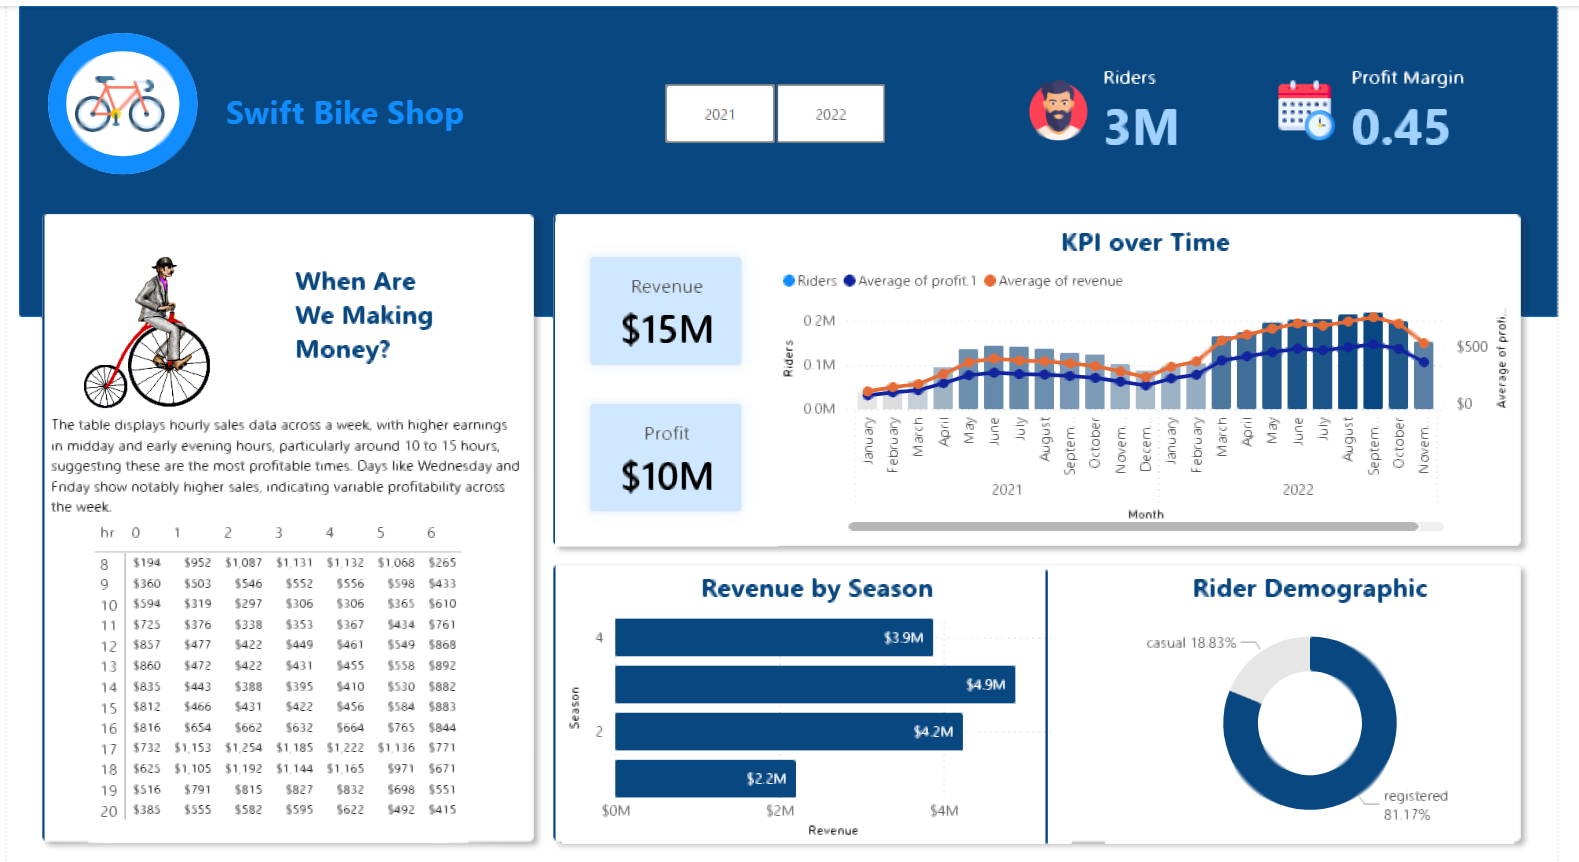

Layout of this report page (visuals, bound fields, positions):
{"tool":"powerbi","page":{"name":"Dashboard","canvas":[1280,720],"ordinal":0},"visuals":[{"type":"shape","box":[9.7,0,1270.3,256.8],"z":0},{"type":"cardVisual","fields":{"Data":["Sum(cte.riders)"]},"box":[0,143,464.9,576.8],"z":1000},{"type":"cardVisual","fields":{"Data":["Sum(cte.riders)"]},"box":[422.1,143,857.9,332.6],"z":2000},{"type":"cardVisual","fields":{"Data":["Sum(cte.riders)"]},"box":[422.1,431.9,857.9,287.9],"z":3000},{"type":"cardVisual","fields":{"Data":["Sum(cte.riders)"]},"box":[31.1,162.4,201.3,214],"z":4000},{"type":"pivotTable","fields":{"Rows":["cte.hr"],"Values":["Avg(cte.revenue)"],"Columns":["cte.weekday"]},"box":[67.1,420.2,314.2,271.4],"z":5000},{"type":"textbox","box":[232.5,206.2,132.3,100.2],"z":6000},{"type":"textbox","box":[31.1,330.7,399.8,101.2],"z":7000},{"type":"lineClusteredColumnComboChart","title":"KPI over Time","fields":{"Category":["cte.dteday.Variation.Date Hierarchy.Year","cte.dteday.Variation.Date Hierarchy.Month","cte.dteday.Variation.Date Hierarchy.Day"],"Y":["Sum(cte.riders)"],"Y2":["Avg(cte.profit.1)","Avg(cte.revenue)"]},"box":[635.1,179,609.8,259.7],"z":8000},{"type":"clusteredBarChart","fields":{"Category":["cte.season"],"Y":["Sum(cte.revenue)"]},"box":[458.1,464.9,421.2,226.6],"z":9000},{"type":"donutChart","title":"Rider Demographic","fields":{"Category":["cte.rider_type"],"Y":["Sum(cte.riders)"]},"box":[906.5,464.9,338.5,226.6],"z":10000},{"type":"shape","box":[852,464.9,12.6,226.6],"z":11000},{"type":"cardVisual","title":"KPI over Time","fields":{"Data":["Sum(cte.revenue)","Sum(cte.profit.1)"]},"box":[452.3,178,183.8,268.4],"z":12000},{"type":"cardVisual","fields":{"Data":["Sum(cte.riders)","cte.Profit Margin"]},"box":[814.1,8.8,437.7,153.7],"z":13000},{"type":"shape","box":[34,22.4,123.5,116.7],"z":14000},{"type":"image","box":[56.4,42.8,73.9,76.8],"z":15000},{"type":"textbox","box":[176,63.2,288.9,57.4],"z":16000},{"type":"slicer","fields":{"Values":["cte.Years"]},"box":[517.4,57.4,231.5,62.2],"z":17000}]}

Visuals, with their boxes on the page's 1280x720 design canvas (x1, y1, x2, y2). These are canvas units, not pixel positions in the 1579x862 screenshot, which may show the page scaled, cropped or inside an application window:
shape: box(10, 0, 1280, 257)
cardVisual - Sum(cte.riders): box(0, 143, 465, 720)
cardVisual - Sum(cte.riders): box(422, 143, 1280, 476)
cardVisual - Sum(cte.riders): box(422, 432, 1280, 720)
cardVisual - Sum(cte.riders): box(31, 162, 232, 376)
pivotTable - cte.hr x Avg(cte.revenue): box(67, 420, 381, 692)
textbox: box(232, 206, 365, 306)
textbox: box(31, 331, 431, 432)
"KPI over Time" lineClusteredColumnComboChart: box(635, 179, 1245, 439)
clusteredBarChart - cte.season x Sum(cte.revenue): box(458, 465, 879, 692)
"Rider Demographic" donutChart: box(906, 465, 1245, 692)
shape: box(852, 465, 865, 692)
"KPI over Time" cardVisual: box(452, 178, 636, 446)
cardVisual - Sum(cte.riders) x cte.Profit Margin: box(814, 9, 1252, 162)
shape: box(34, 22, 158, 139)
image: box(56, 43, 130, 120)
textbox: box(176, 63, 465, 121)
slicer - cte.Years: box(517, 57, 749, 120)
